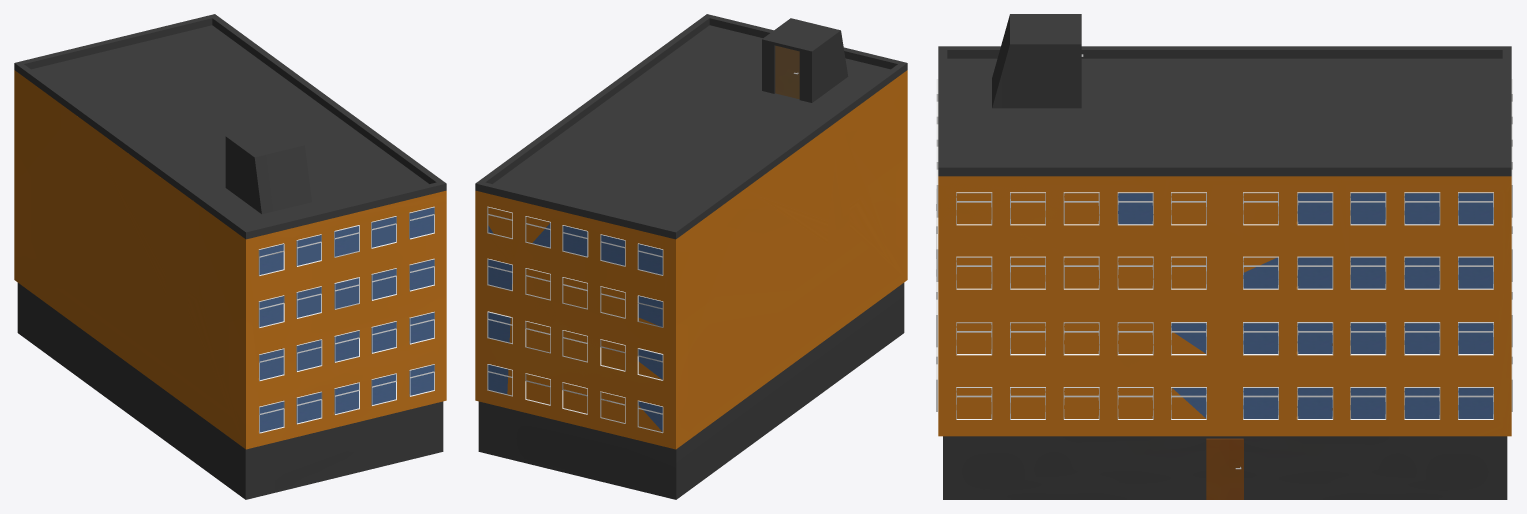
The model's file is Apartament.fbx.
3 renders of one model, left to right at view 1: azimuth 30°, elevation 25°; view 2: azimuth 150°, elevation 25°; view 3: azimuth 270°, elevation 25°, orthographic. The views are drawn at different scales.
Visible parts, largest first — view 1: Building_Apartament_Low; view 2: Building_Apartament_Low; view 3: Building_Apartament_Low.
Part boxes in pixels (x1=…): Building_Apartament_Low: x1=14, y1=14, x2=446, y2=499; Building_Apartament_Low: x1=475, y1=14, x2=907, y2=499; Building_Apartament_Low: x1=936, y1=14, x2=1512, y2=499.
Bounding box in the file's own units: 17.62 × 26.2 × 35.26.
Materials: 1 (1 with a texture image).
